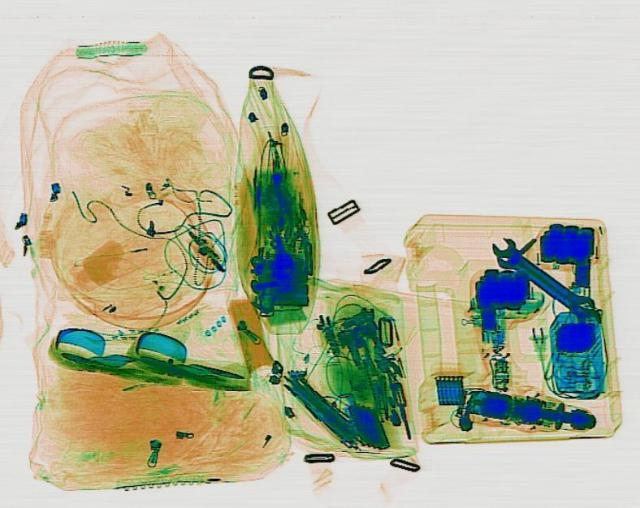Wrench: (487, 245, 607, 327), (486, 232, 598, 316)
